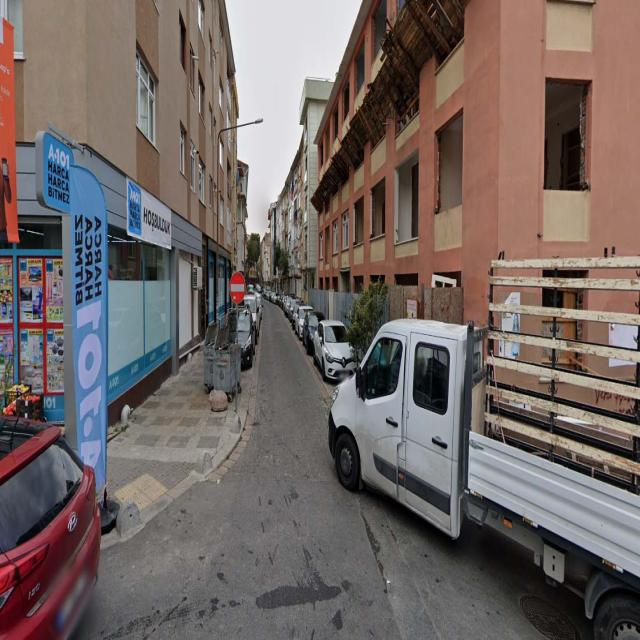girisyok: (230, 271, 245, 305)
